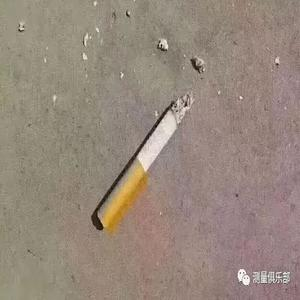cigarette: (95, 93, 192, 230)
